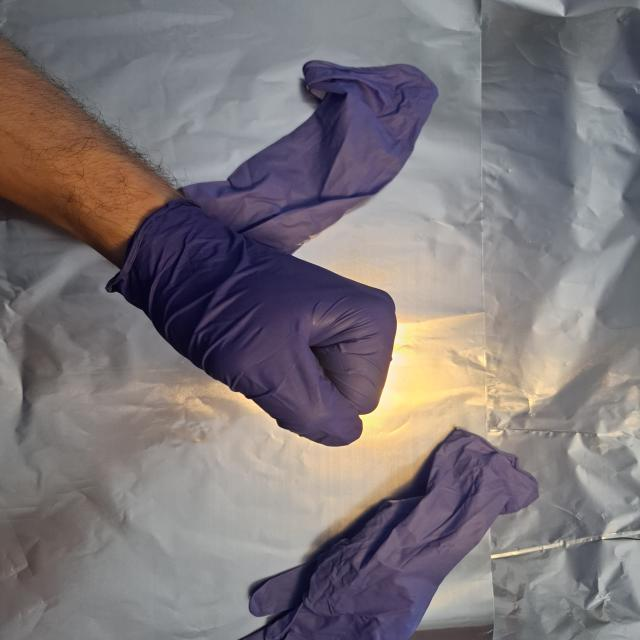glove_on: (100, 195, 402, 450)
